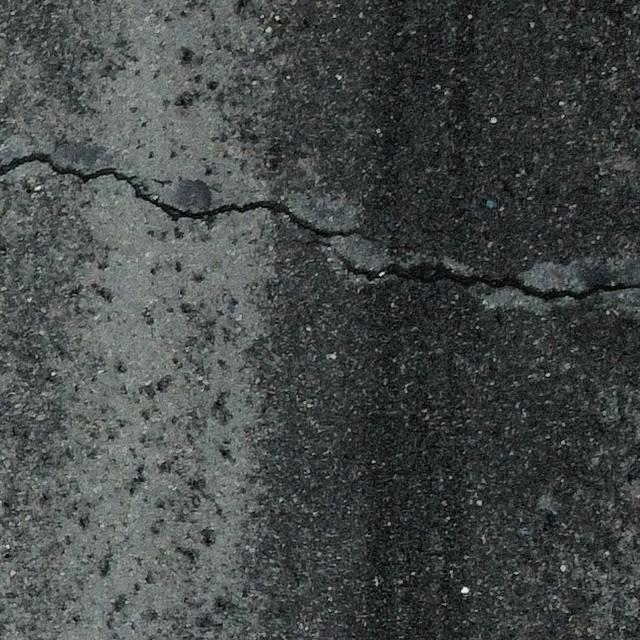TransverseCrack: (1, 152, 640, 303)
